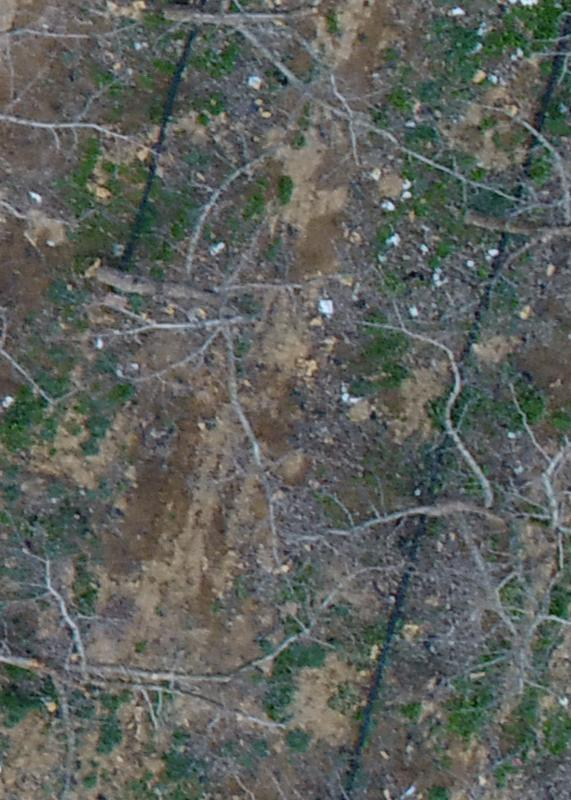apple: (61, 145, 325, 498), (10, 533, 266, 790)
